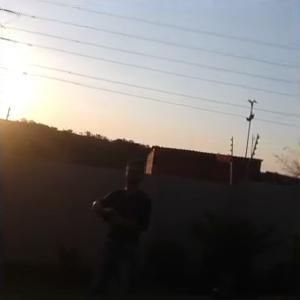follow: (87, 153, 163, 298)
